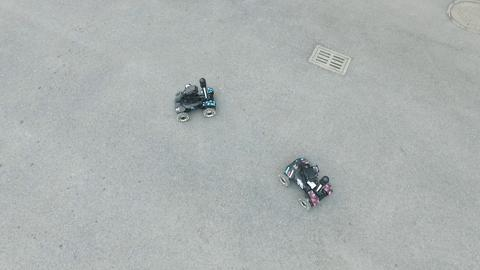chariot: (280, 150, 336, 211), (174, 77, 220, 123)
